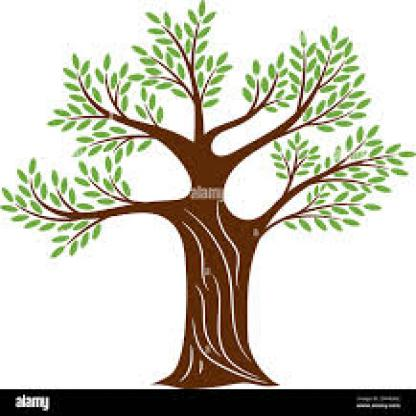trunk_bark: (176, 238, 262, 370)
